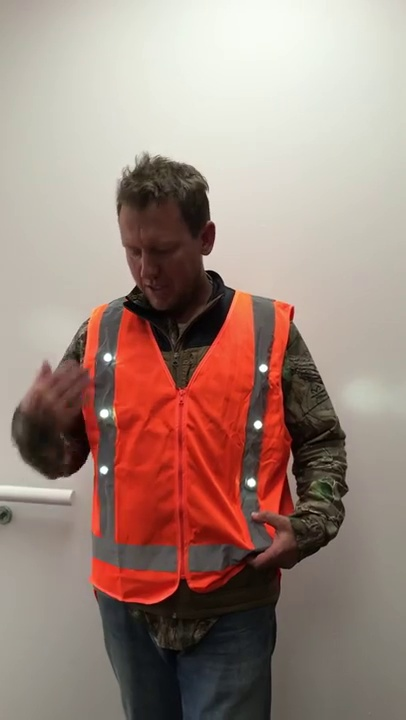NoHardhat: (74, 150, 302, 583)
